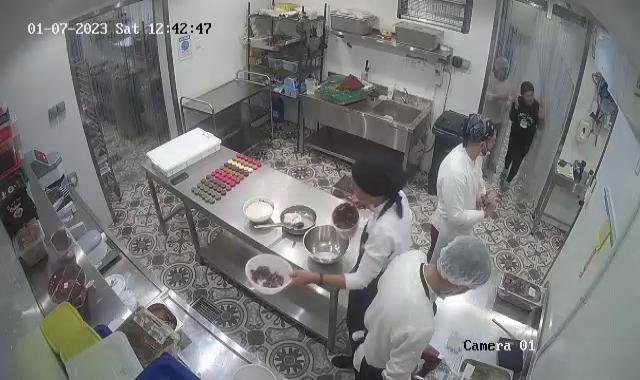hairnet: (436, 235, 493, 288)
no_hairnet: (351, 150, 409, 201), (464, 111, 498, 148), (518, 80, 536, 101)
